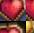heart: (0, 0, 26, 21), (0, 21, 22, 33), (26, 0, 34, 21)
